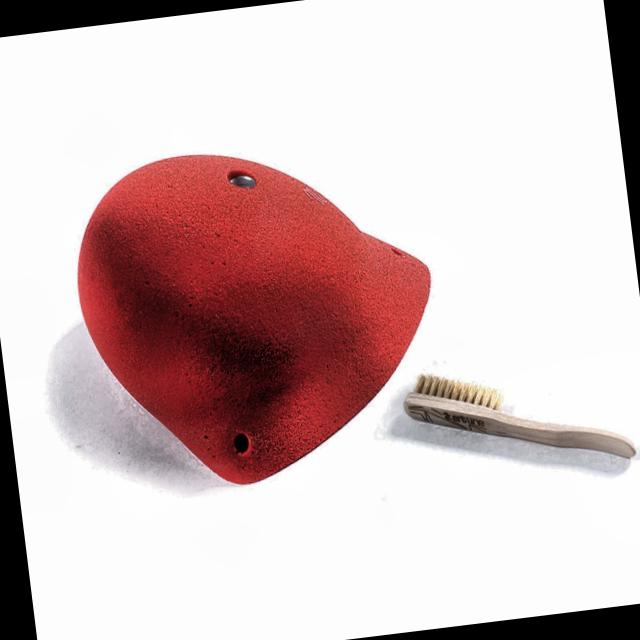Hold: (68, 130, 445, 498)
